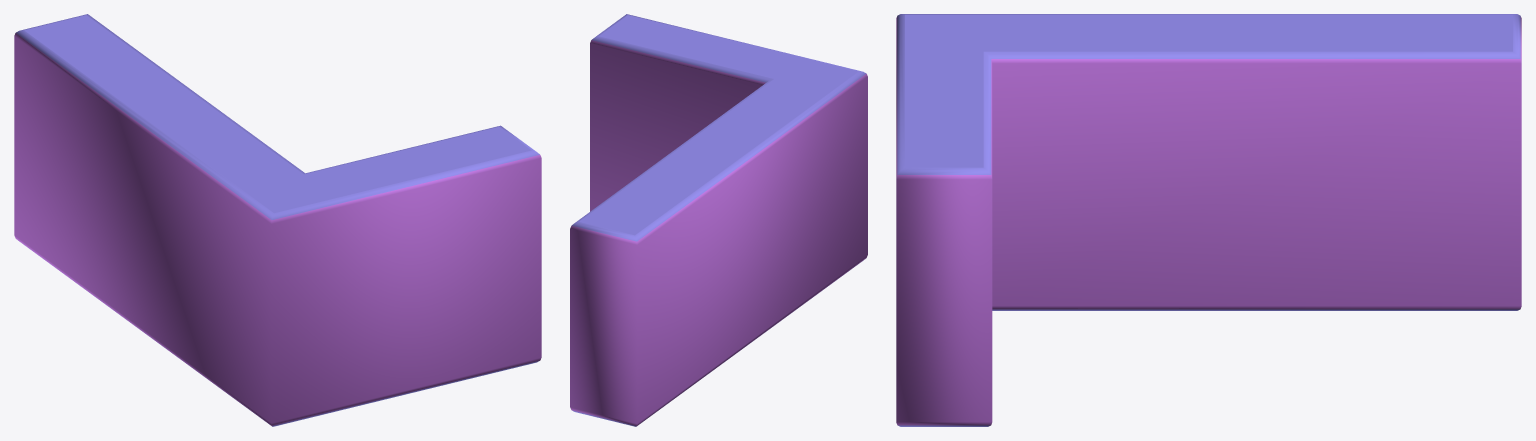
File: letter_L.fbx
3 renders of one model, left to right at view 1: azimuth 30°, elevation 25°; view 2: azimuth 150°, elevation 25°; view 3: azimuth 270°, elevation 25°, orthographic. The views are drawn at different scales.
Parts seen in each view (by area): view 1: Letter_L; view 2: Letter_L; view 3: Letter_L.
Part boxes in pixels (box(x1,y1,x2,y2)): Letter_L: box(14, 14, 541, 426); Letter_L: box(570, 14, 867, 426); Letter_L: box(896, 14, 1521, 426).
Bounding box in the file's own units: 42.6 × 32 × 70.2.
